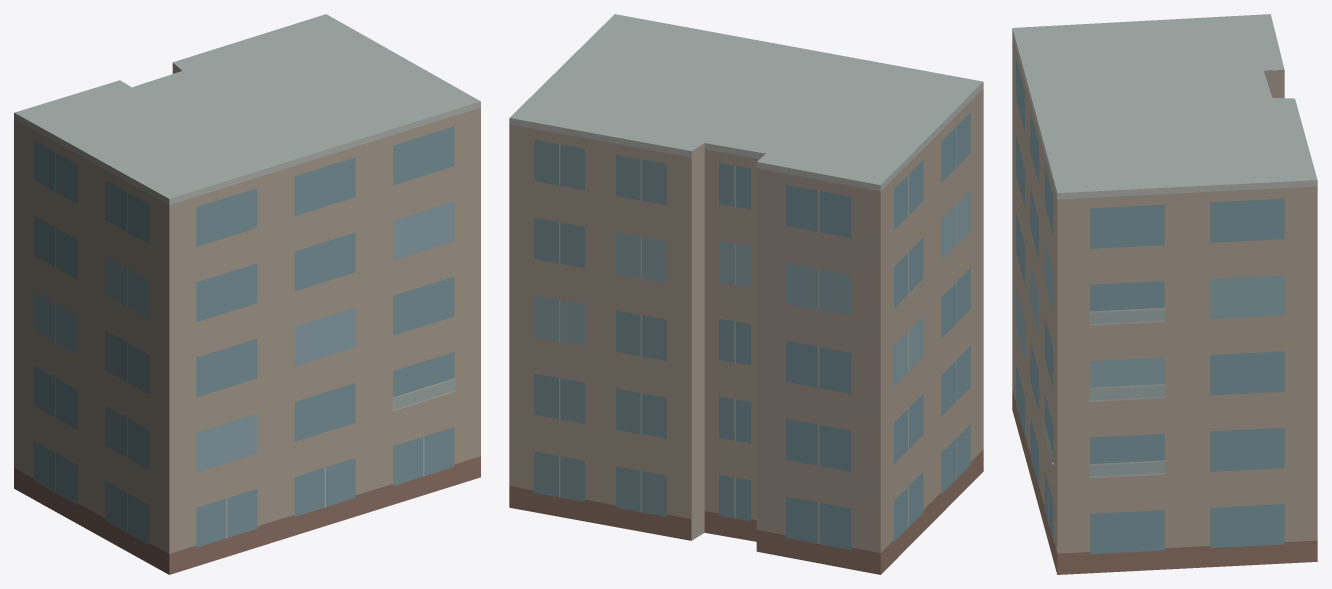
The model's file is survey-upis-32532710.glb.
3 views of the same model, side by side, from view 1: azimuth 30°, elevation 25°; view 2: azimuth 150°, elevation 25°; view 3: azimuth 270°, elevation 25° (orthographic). The views are drawn at different scales.
Parts seen in each view (by area): view 1: survey-upis-32532710.tmp; view 2: survey-upis-32532710.tmp; view 3: survey-upis-32532710.tmp.
Boxes of the visible parts, x1,y1,x2,y2 form: survey-upis-32532710.tmp: (14, 14, 480, 574); survey-upis-32532710.tmp: (509, 14, 983, 574); survey-upis-32532710.tmp: (1012, 14, 1317, 574).
Size of the model in its own units: 14.8 by 14.69 by 10.66.
